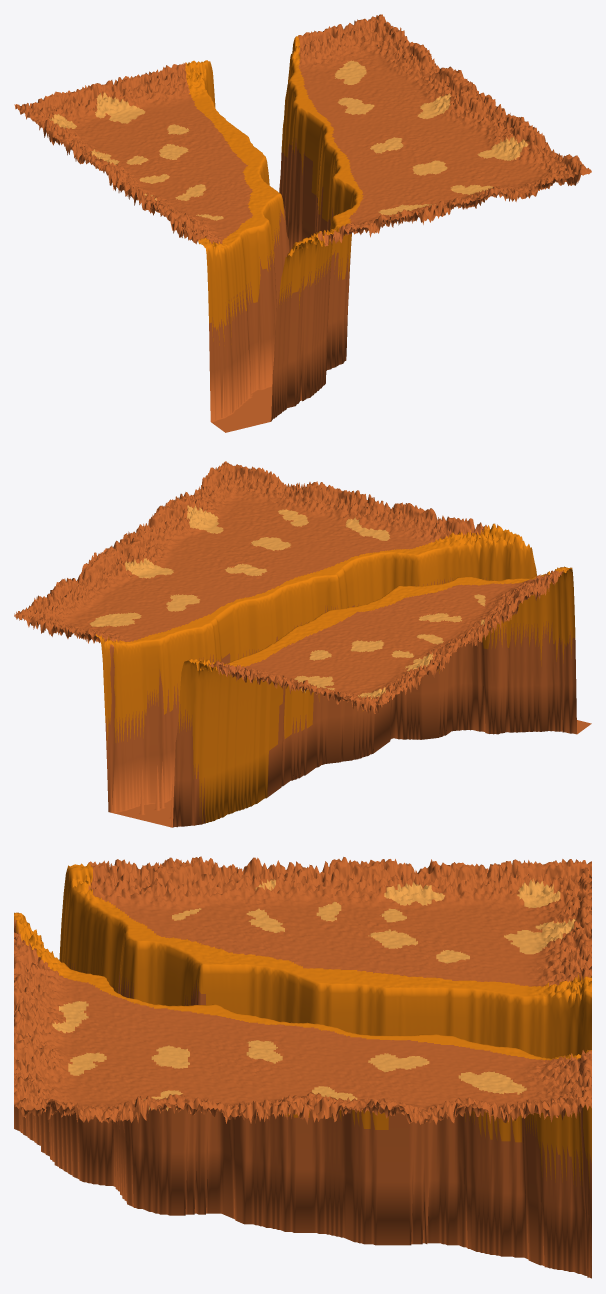
The model's file is canyon.glb.
3 views of the same model, one above another, from view 1: azimuth 30°, elevation 25°; view 2: azimuth 150°, elevation 25°; view 3: azimuth 270°, elevation 25° (orthographic). The views are drawn at different scales.
Visible parts, largest first — view 1: Plane; view 2: Plane; view 3: Plane.
Part boxes in pixels (<box>): Plane: <box>14,14,591,432</box>; Plane: <box>14,461,591,827</box>; Plane: <box>14,856,591,1278</box>.
Bounding box in the file's own units: 409 × 190 × 409.
